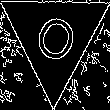O_SW: (27, 4, 82, 71)
